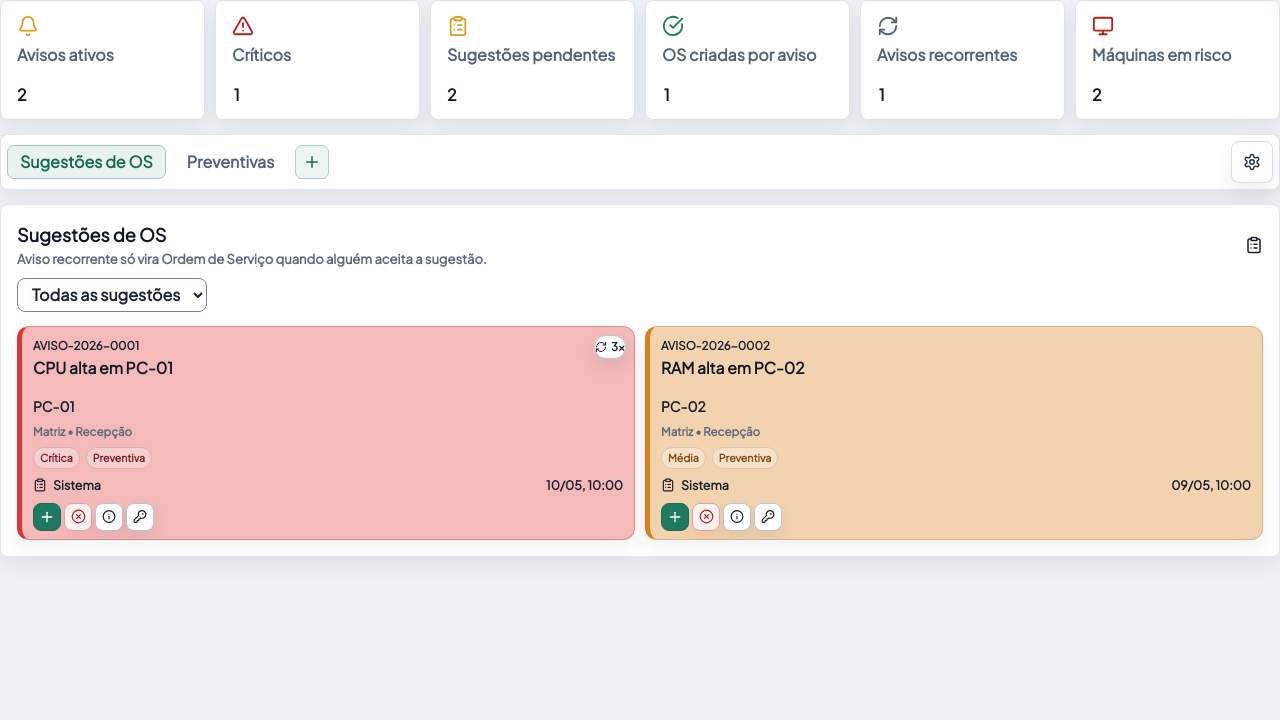
Test: AlertCenterV2 - detalhes da sugestão › abre o modal de detalhes com informações da máquina, do aviso e correlação
Click the button named "Ver detalhes do aviso" below "Crítica": point(109, 516) top-left (95, 502), bottom-right (123, 530)
(page scrolled)
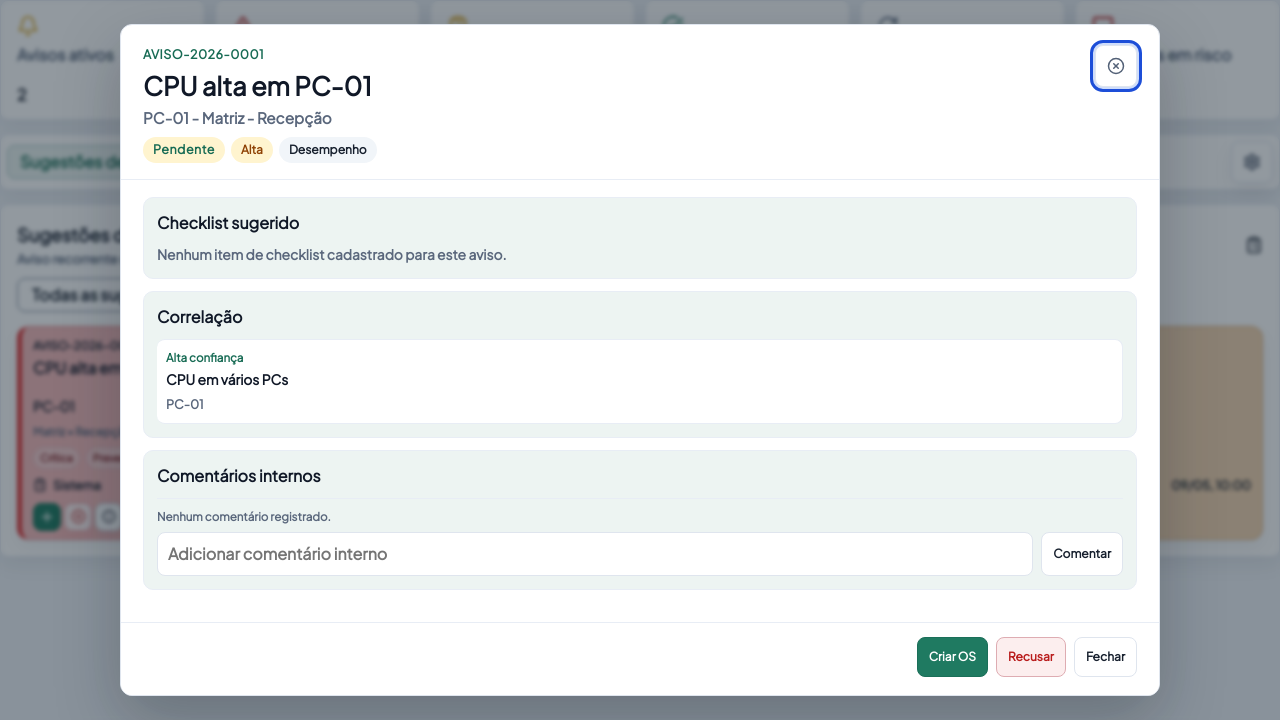
Expected: the text "CPU em vários PCs" is shown, top-left (166, 371), bottom-right (288, 388)
Expected: the text "Nenhum item de checklist cadastrado para este aviso." is shown, top-left (157, 246), bottom-right (506, 263)
Expected: the text "Nenhum comentário registrado." is shown, top-left (157, 509), bottom-right (331, 524)
